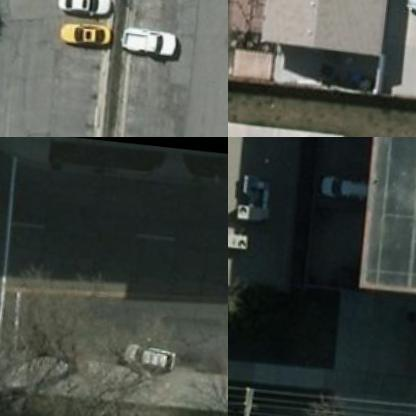car: (114, 26, 180, 64), (42, 17, 108, 54), (315, 170, 373, 206), (117, 342, 175, 376), (50, 0, 116, 27)
